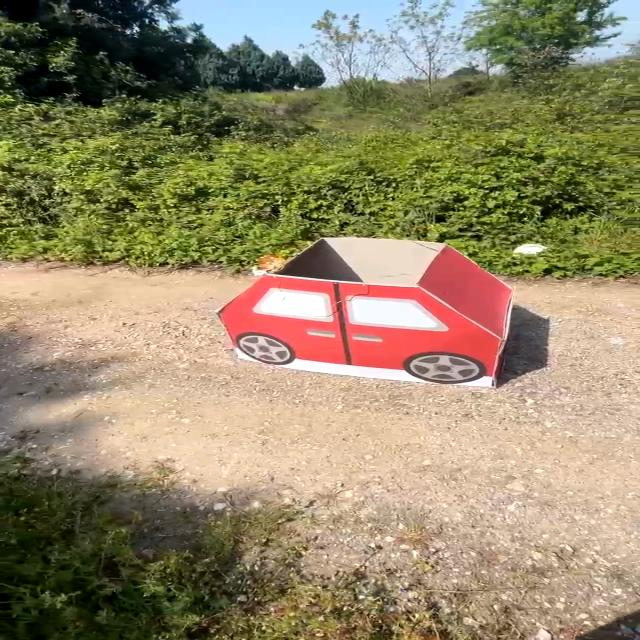red_car: (197, 229, 550, 404)
